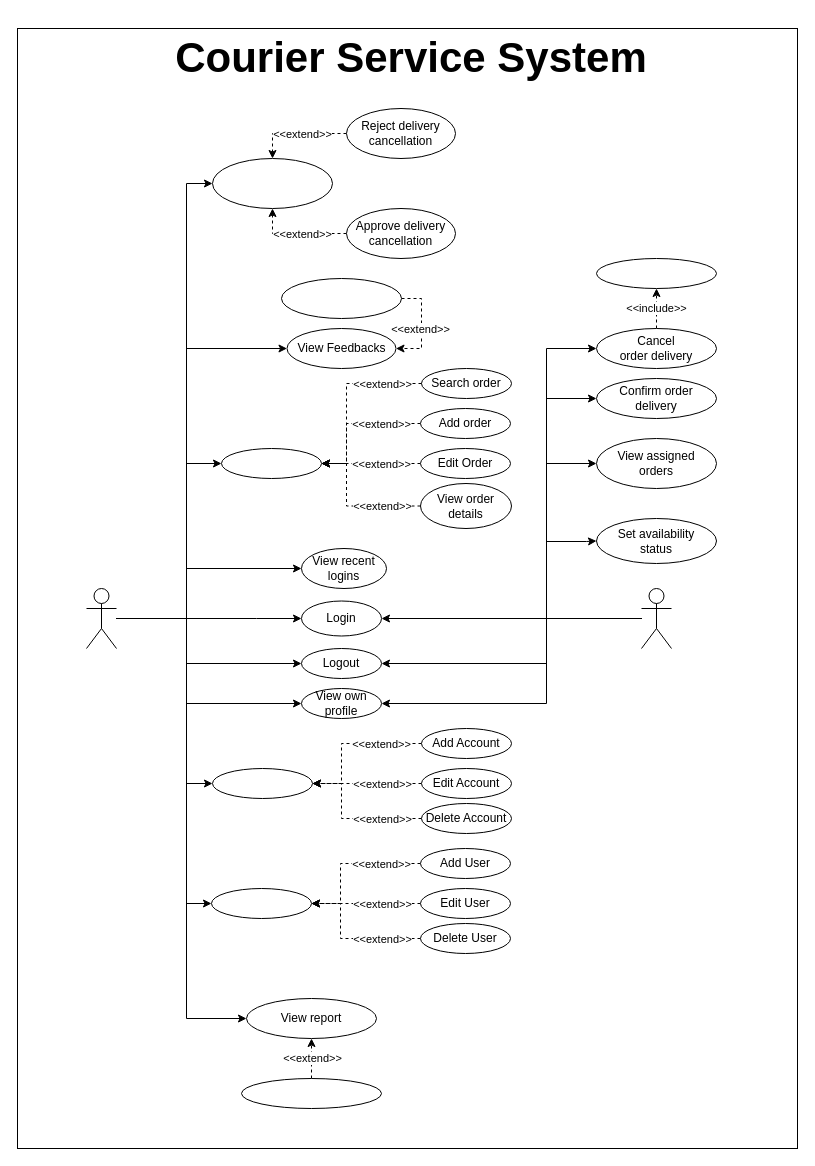
Image size: 815x1166. Some labels were removed from this diagram. Each missing label, with the centre of its shape:
"Delivery" goes at point 656,618.
"Generate report" goes at point 311,1093.
"Managing" goes at point 101,618.
"Provide reason" goes at point 656,273.
"Search feedback" goes at point 341,298.
"View Accounts" goes at point 262,783.
"View delivery cancellations" goes at point 272,183.
"View orders" goes at point 271,463.
"View Users" goes at point 261,903.
